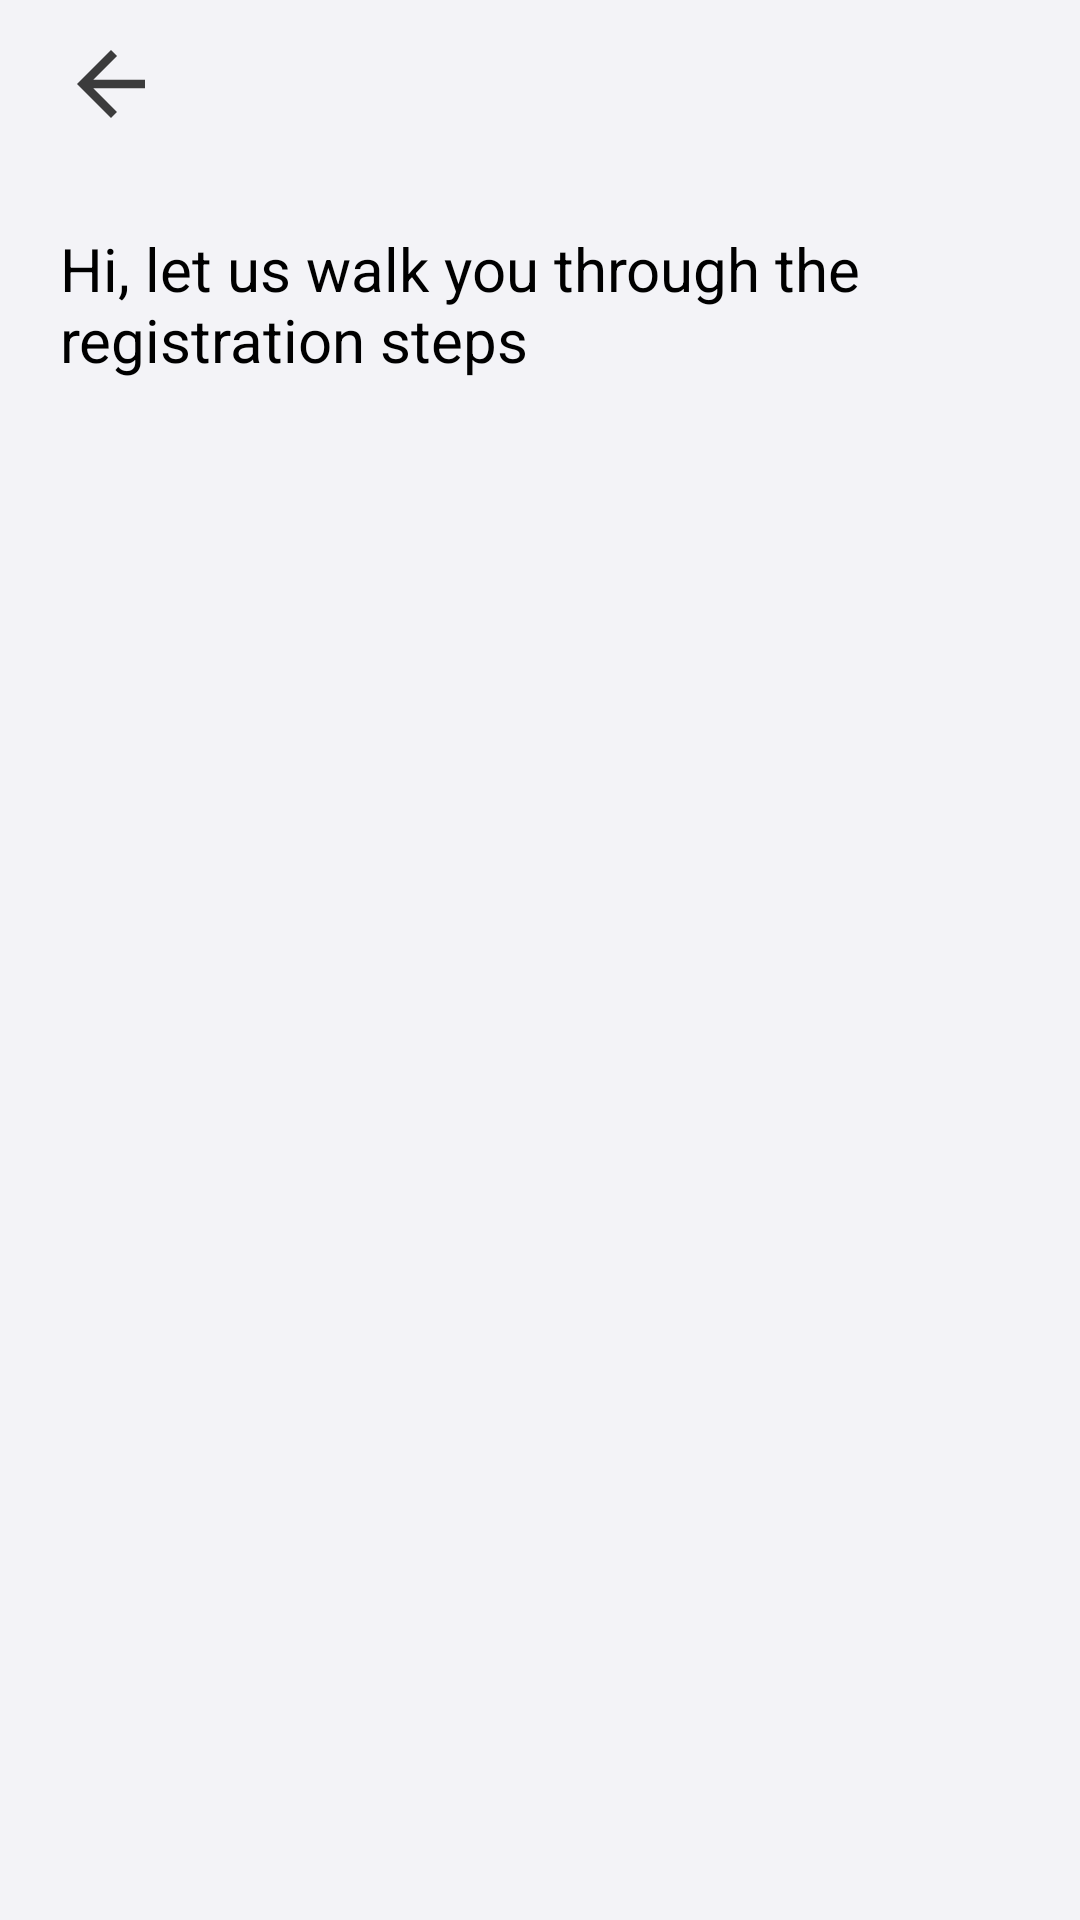

Icon bounding boxes for this 1080×1920 phone screenshot, format (x1, y1, x2, y2):
arrow back: (77, 50, 145, 118)
